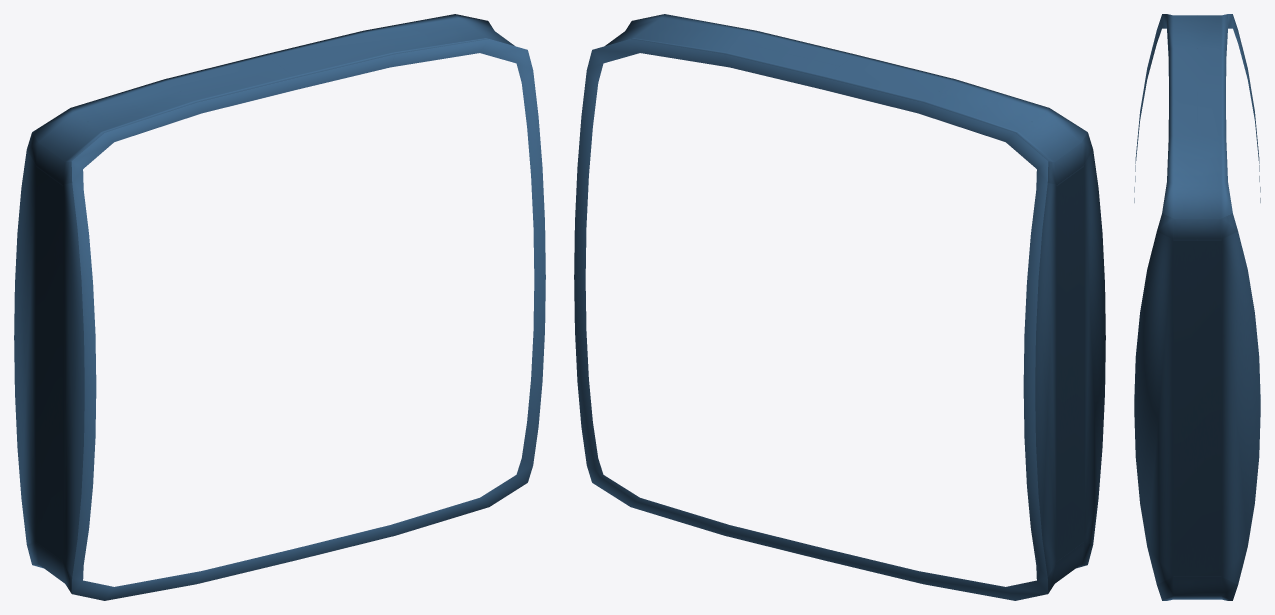
Rendered from Frame.gltf.
3 views of the same model, side by side, from view 1: azimuth 30°, elevation 25°; view 2: azimuth 150°, elevation 25°; view 3: azimuth 270°, elevation 25° (orthographic). The views are drawn at different scales.
Parts seen in each view (by area): view 1: Frame; view 2: Frame; view 3: Frame.
Part boxes in pixels (box(x1,y1,x2,y2)): Frame: box(14, 14, 545, 600); Frame: box(574, 14, 1105, 600); Frame: box(1134, 14, 1260, 600).
Bounding box in the file's own units: 2 × 2 × 0.5313.
Materials: 1 (1 with a texture image).
